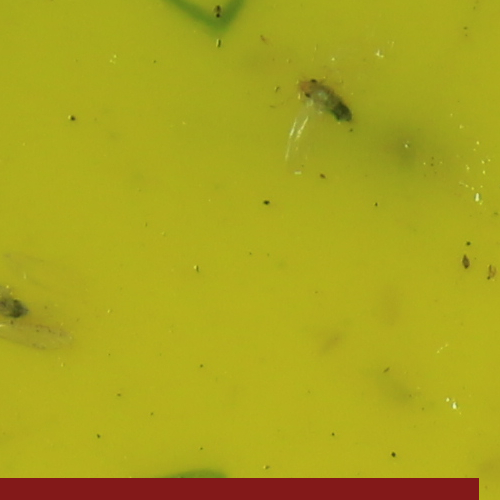Glycaspis: (297, 72, 356, 126)
